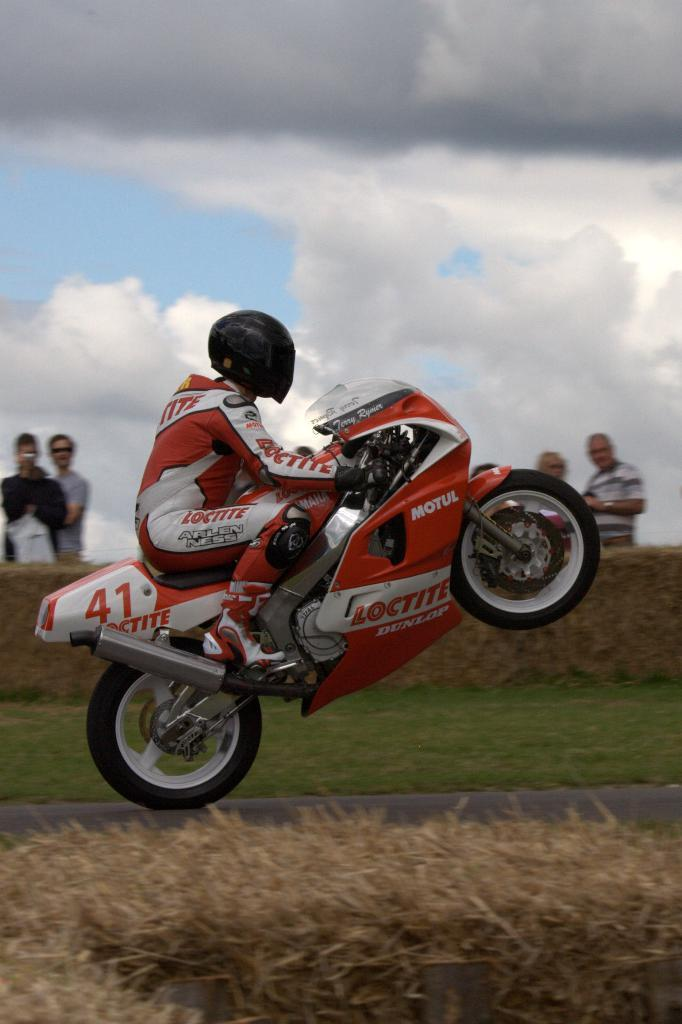helmet: (207, 309, 296, 404)
nohelmet: (585, 432, 615, 471), (536, 450, 568, 486), (14, 432, 40, 471), (48, 433, 75, 470)
